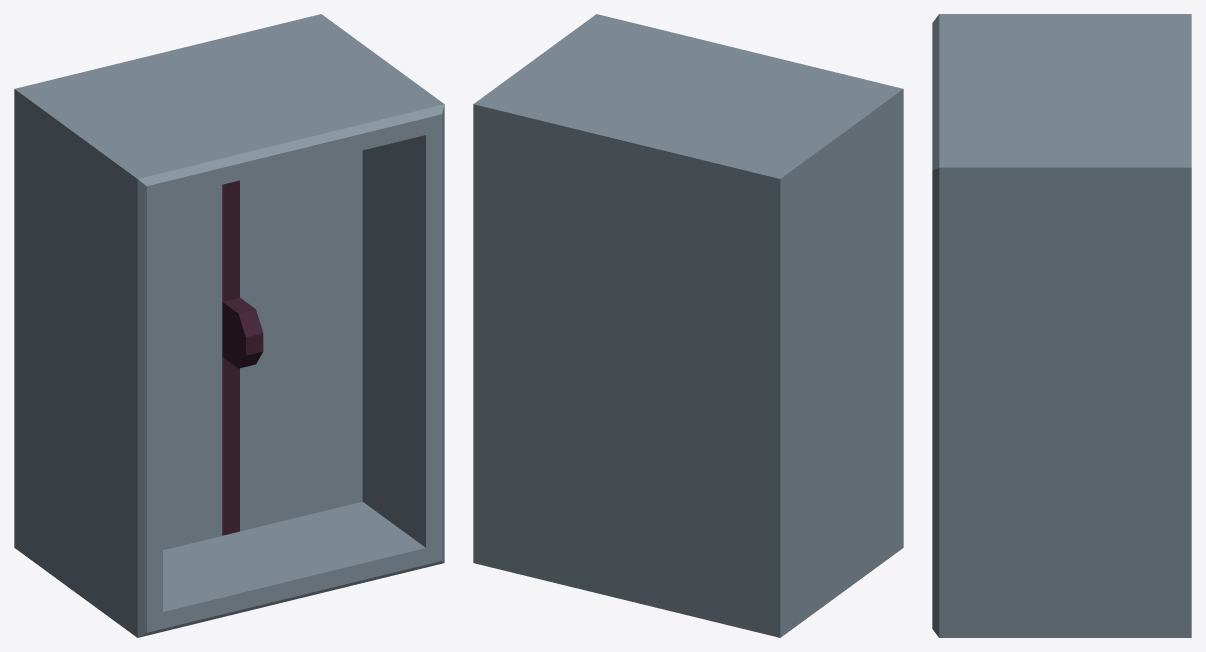
Rendered from powerbox_body.glb.
3 views of the same model, side by side, from view 1: azimuth 30°, elevation 25°; view 2: azimuth 150°, elevation 25°; view 3: azimuth 270°, elevation 25° (orthographic). The views are drawn at different scales.
Parts seen in each view (by area): view 1: PowerboxBody; view 2: PowerboxBody; view 3: PowerboxBody.
Part boxes in pixels (x1,y1,x2,y2): PowerboxBody: [14, 14, 444, 637]; PowerboxBody: [473, 14, 903, 637]; PowerboxBody: [932, 14, 1191, 637].
Bounding box in the file's own units: 0.28 × 0.4 × 0.2.
1 material, 1 textured.
